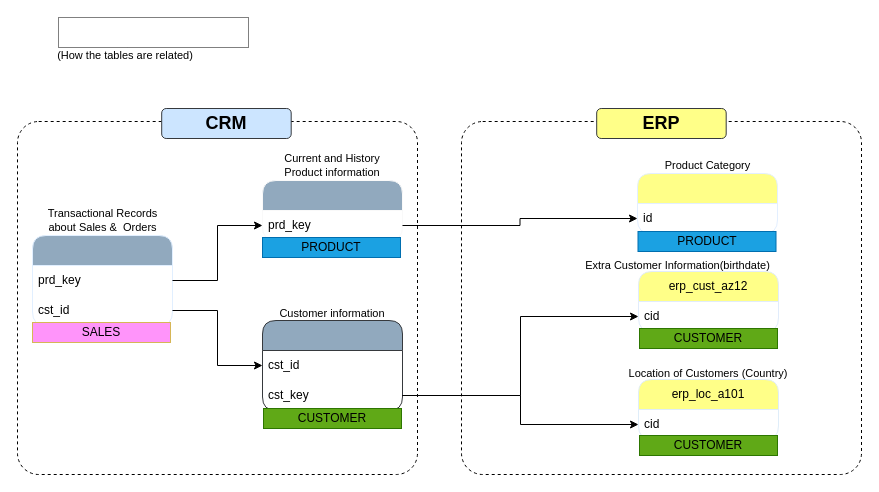
The diagram is 879 pixels wide and 492 high, and some of its shapes have lost their labels. The shapes that lost their labels are listed below. From the top down, each one's box as (x1, y1, x2, y2) in pixels, then its label:
(58, 16, 248, 48): Integration Model
(262, 180, 402, 240): crm_prd_info
(636, 172, 778, 234): erp_px_cat_g1v2
(32, 234, 172, 326): crm_sales_details
(262, 320, 402, 410): crm_cust_info
